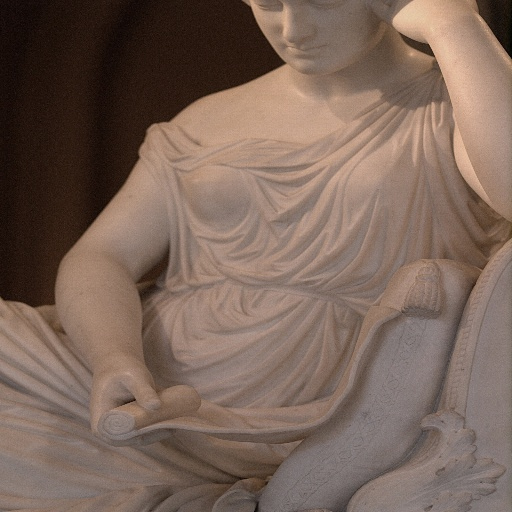hand: (385, 0, 502, 84), (85, 357, 179, 447)
